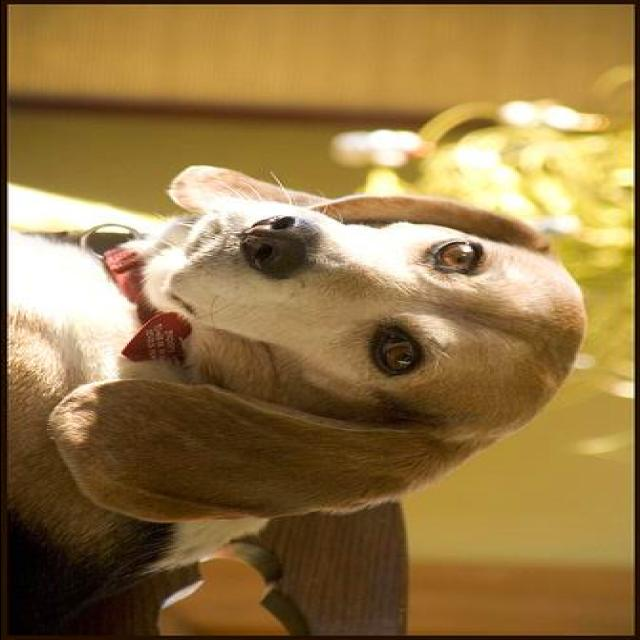beagle: (2, 161, 590, 622)
